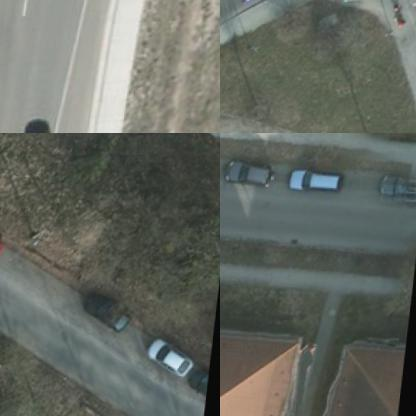car: (78, 288, 136, 346), (148, 342, 198, 386), (220, 164, 275, 198), (289, 174, 341, 202), (372, 181, 415, 209), (236, 0, 286, 10), (0, 219, 11, 264)
